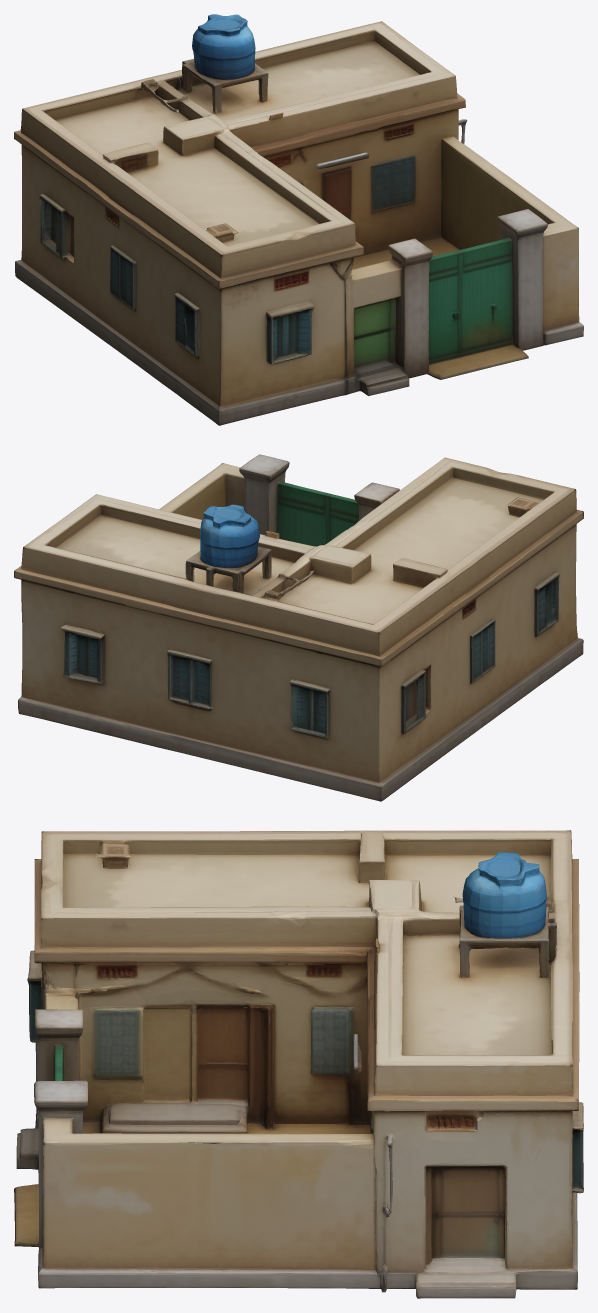
The model's file is sudanese_compound.glb.
The picture shows the model from 3 angles, top to bottom: view 1: azimuth 30°, elevation 25°; view 2: azimuth 150°, elevation 25°; view 3: azimuth 270°, elevation 25°; orthographic projection. The views are drawn at different scales.
Visible parts, largest first — view 1: world; view 2: world; view 3: world.
Part boxes in pixels (box(x1,y1,x2,y2)): world: box(14, 14, 583, 425); world: box(14, 454, 583, 801); world: box(14, 830, 583, 1298).
Size of the model in its own units: 0.9956 by 0.5721 by 0.9688.
Materials: 1 (1 with a texture image).
